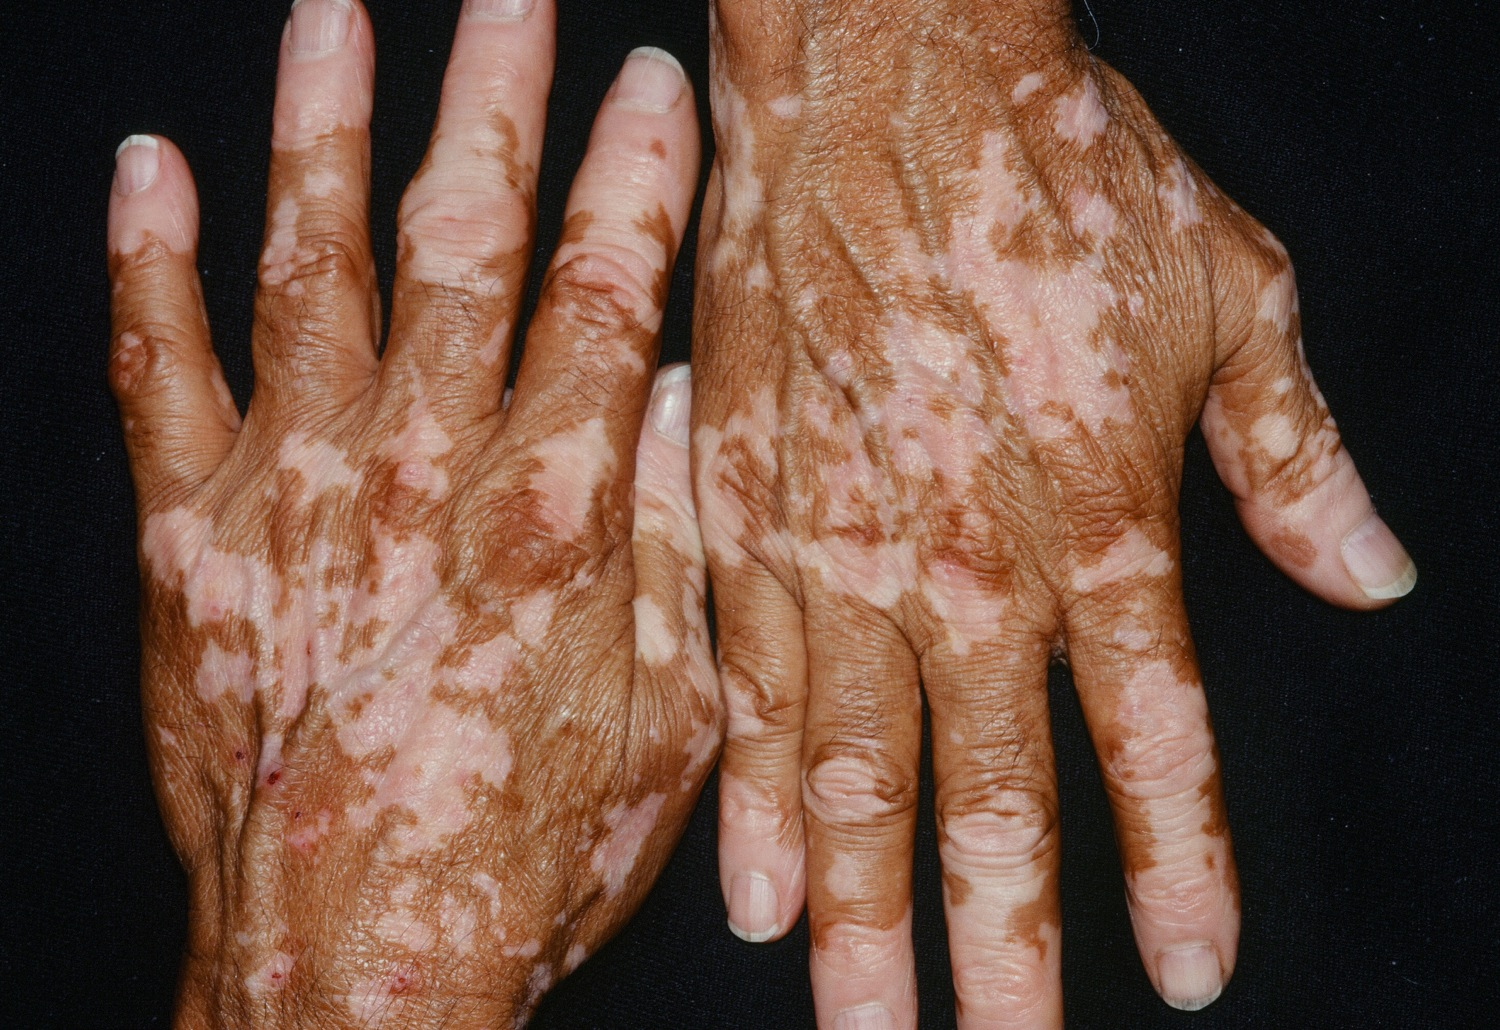vitiligo: (162, 70, 1155, 821)
